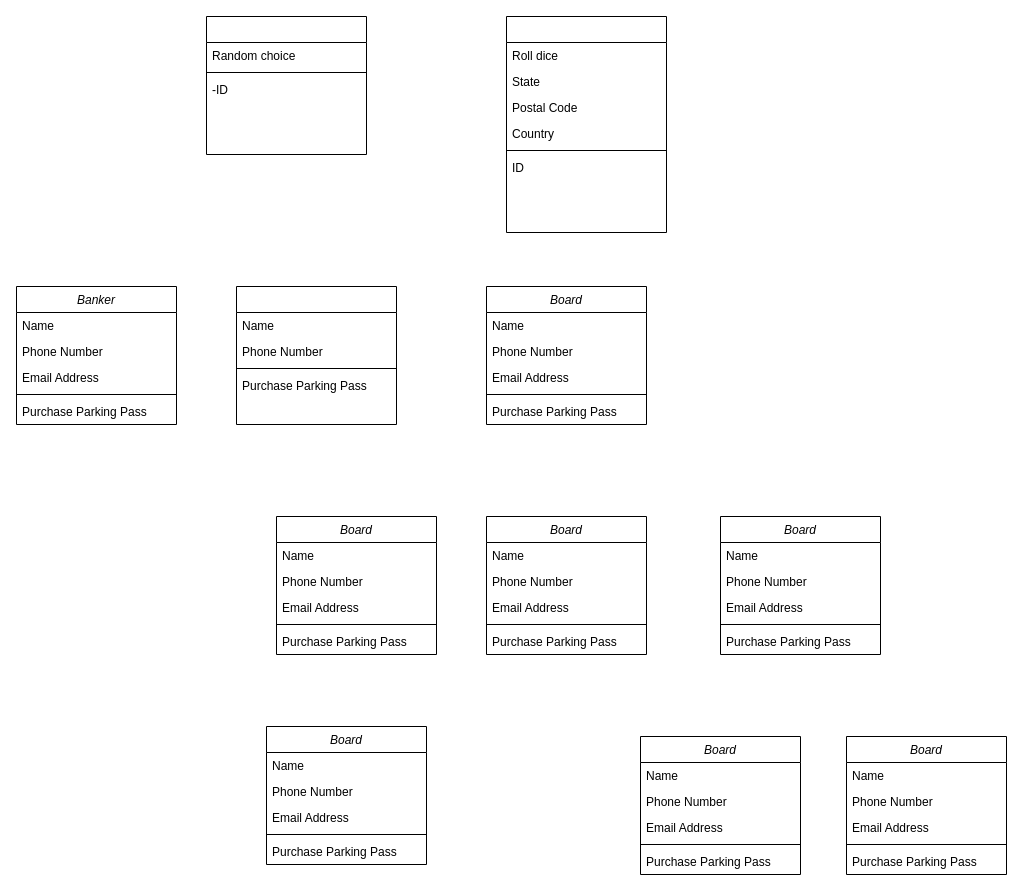
Image size: 1023x891. Some labels were removed from this diagram. Each missing label, with the box of its shape:
AI: (206, 16, 366, 154)
Bank: (236, 286, 396, 424)
Player: (506, 16, 666, 232)
